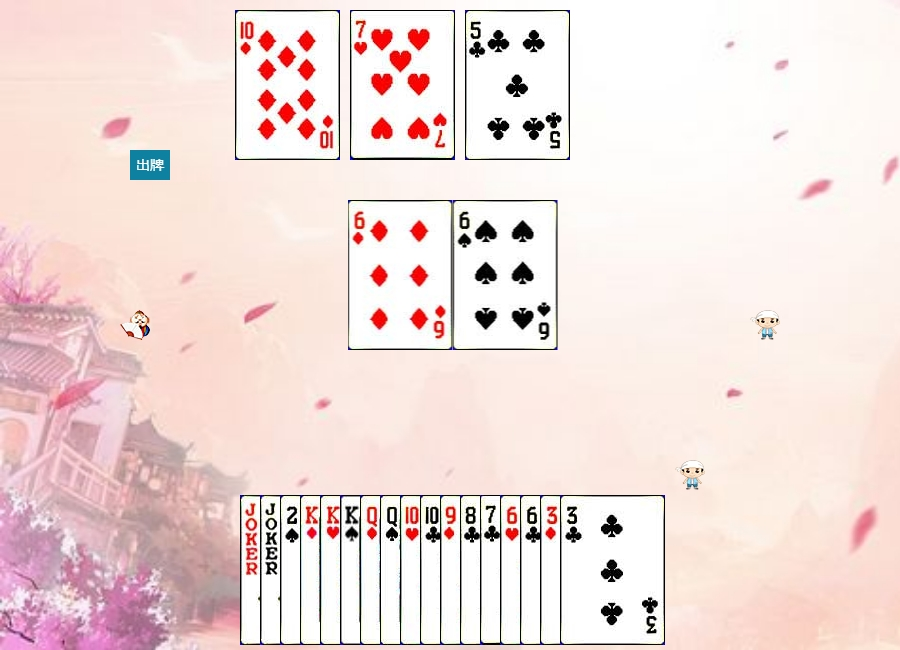10~1: (235, 10, 340, 160)
10~2: (420, 495, 525, 645)
10~3: (400, 495, 505, 645)
12~1: (360, 495, 465, 645)
12~4: (380, 495, 485, 645)
13~1: (300, 495, 405, 645)
13~3: (320, 495, 425, 645)
13~4: (340, 495, 445, 645)
15~4: (280, 495, 385, 645)
17~3: (260, 495, 365, 645)
18~4: (240, 495, 345, 645)
3~1: (540, 495, 645, 645)
3~2: (560, 495, 665, 645)
5~2: (465, 10, 570, 160)
6~1: (348, 200, 453, 350)
6~2: (520, 495, 625, 645)
6~3: (500, 495, 605, 645)
6~4: (453, 200, 558, 350)
7~2: (480, 495, 585, 645)
7~3: (350, 10, 455, 160)
8~2: (460, 495, 565, 645)
9~1: (440, 495, 545, 645)
